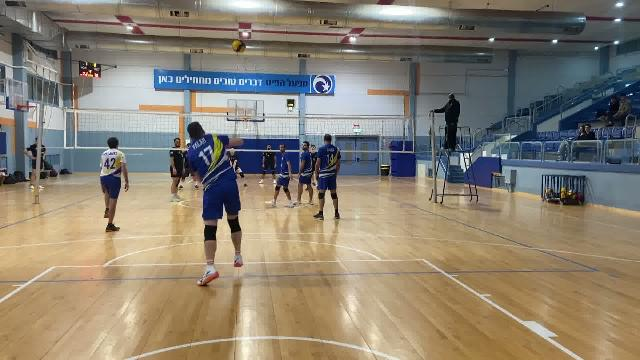ball: (231, 37, 247, 56)
